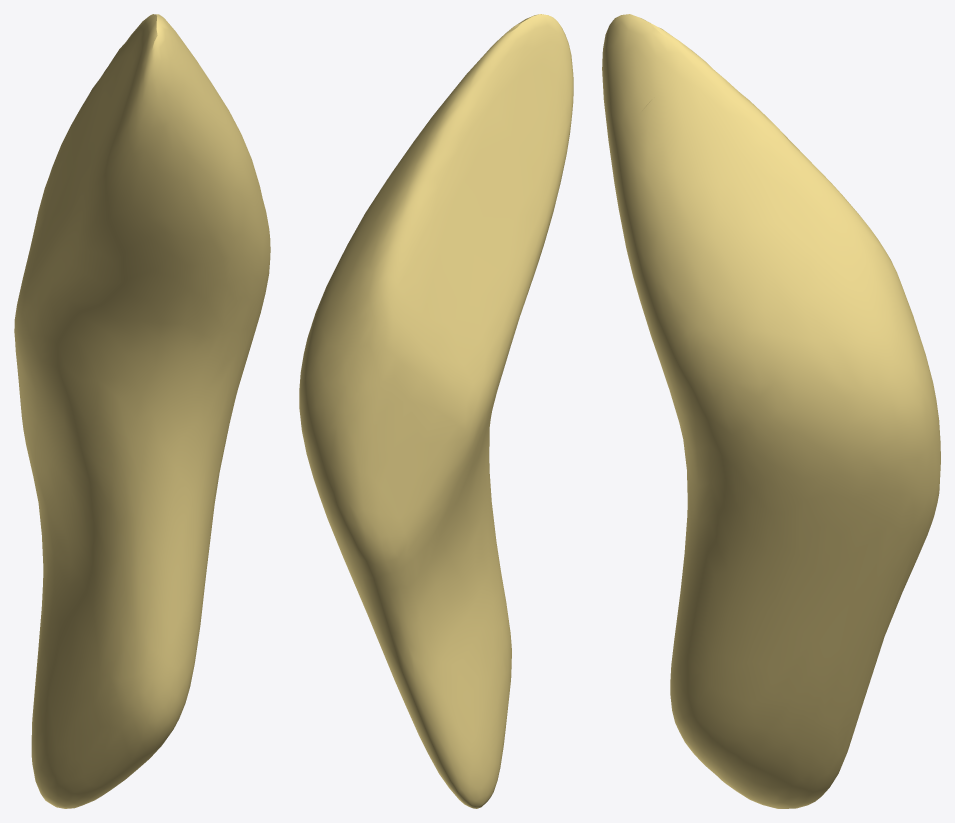
File: fma54616_mm3536.glb
The picture shows the model from 3 angles, left to right: view 1: azimuth 30°, elevation 25°; view 2: azimuth 150°, elevation 25°; view 3: azimuth 270°, elevation 25°; orthographic projection. The views are drawn at different scales.
Parts seen in each view (by area): view 1: FMA54616_MM3536; view 2: FMA54616_MM3536; view 3: FMA54616_MM3536.
Part boxes in pixels (<box>): FMA54616_MM3536: <box>14,14,270,808</box>; FMA54616_MM3536: <box>299,14,573,808</box>; FMA54616_MM3536: <box>602,14,940,808</box>.
Bounding box in the file's own units: 0.00245 × 0.00968 × 0.00371.
